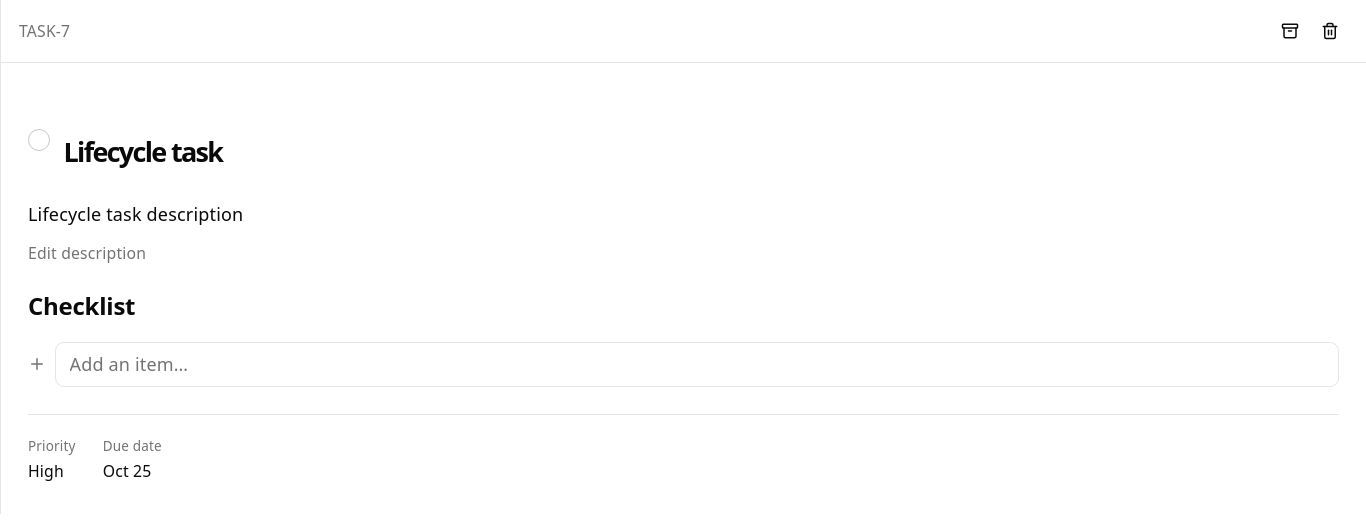
Test: TaskDetailSurface › keeps detail open and changes the header to Restore after Archive
Click the button named "Archive task" at [1290, 31], box [1272,13,1308,49]
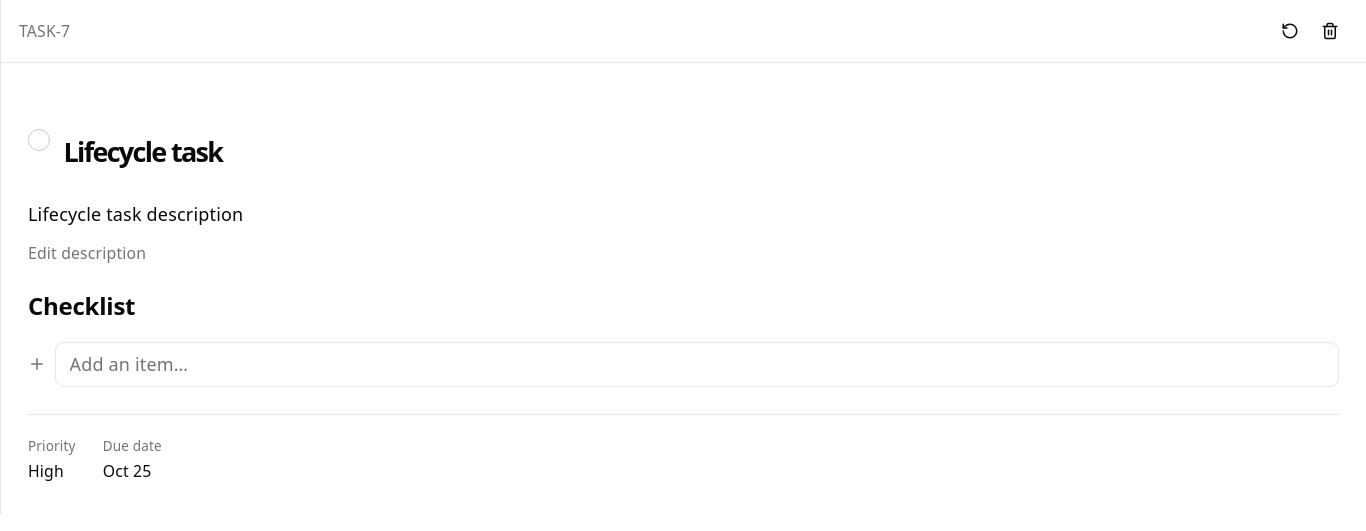
Expected: the heading "Lifecycle task" is shown, [28,126,1339,168]
Expected: the button named "Restore task" is shown, [1272,13,1308,49]
